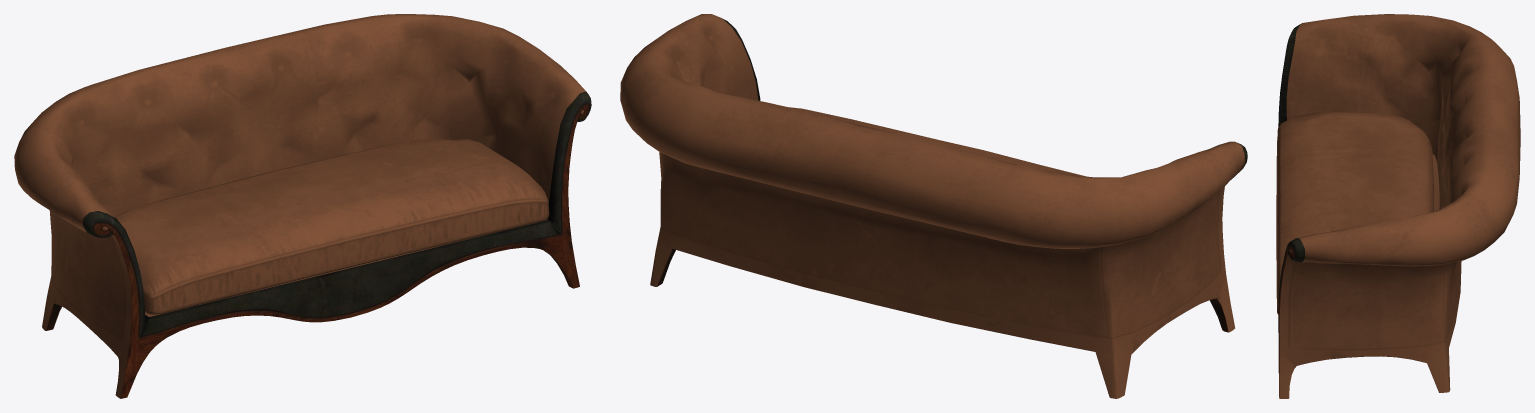
File: sofa-chesterfield.glb
3 views of the same model, side by side, from view 1: azimuth 30°, elevation 25°; view 2: azimuth 150°, elevation 25°; view 3: azimuth 270°, elevation 25° (orthographic). The views are drawn at different scales.
Visible parts, largest first — view 1: sofa_02_Base; view 2: sofa_02_Base; view 3: sofa_02_Base.
Boxes of the visible parts, x1=… form: sofa_02_Base: x1=14, y1=14, x2=591, y2=398; sofa_02_Base: x1=620, y1=14, x2=1247, y2=398; sofa_02_Base: x1=1276, y1=14, x2=1520, y2=398.
Bounding box in the file's own units: 1.81 × 0.7095 × 0.8177.
2 materials, 2 textured.
